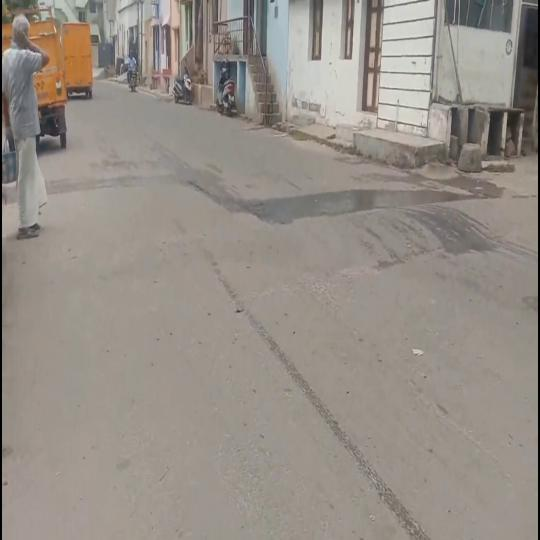Speed Bump: (107, 192, 524, 280)
